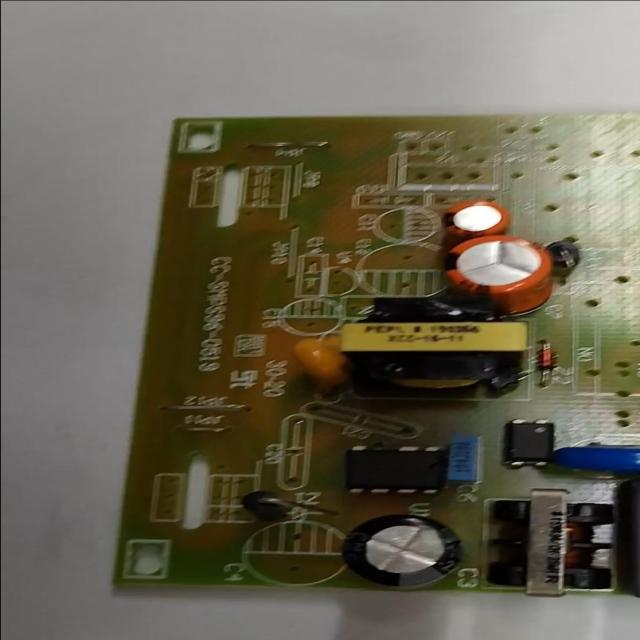Cap1: (444, 235, 555, 311)
Cap2: (443, 199, 511, 236)
Cap3: (347, 513, 457, 590)
MOSFET: (351, 444, 444, 493)
Mov: (555, 447, 639, 472)
Transformer: (343, 295, 526, 399), (499, 489, 618, 598)
